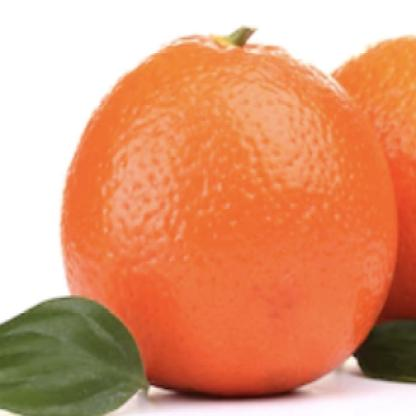fresh: (60, 31, 402, 400)
